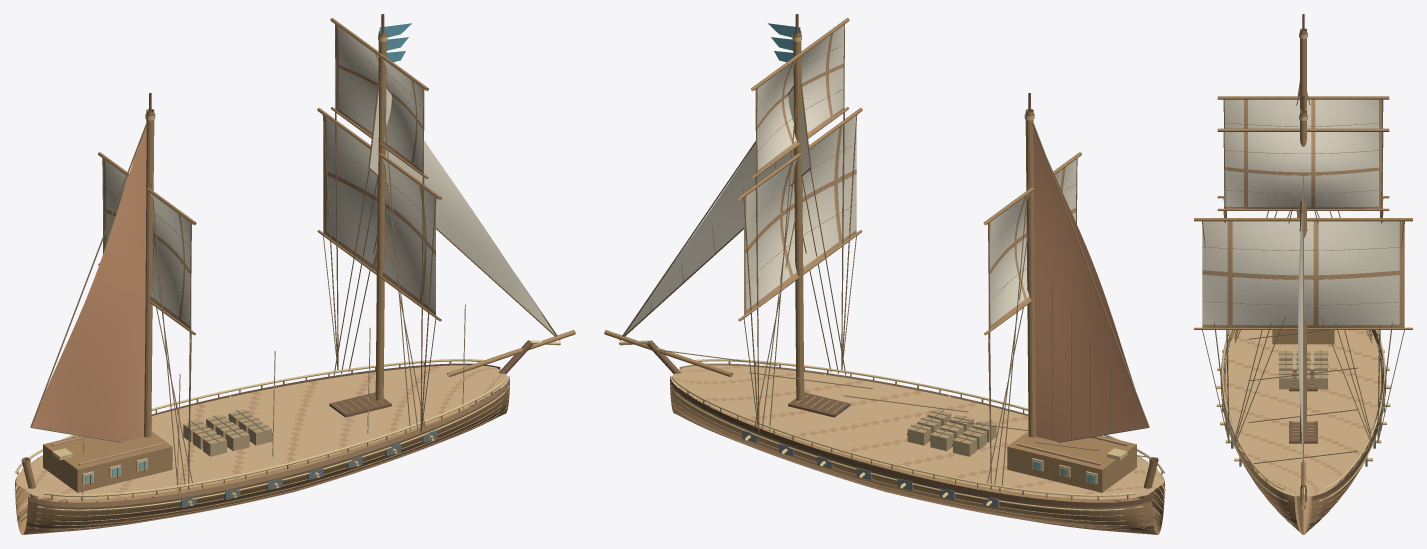
Rendered from atlantic_brigantine-custom.glb.
3 renders of one model, left to right at view 1: azimuth 30°, elevation 25°; view 2: azimuth 150°, elevation 25°; view 3: azimuth 270°, elevation 25°, orthographic. The views are drawn at different scales.
Visible parts, largest first — view 1: atlantic_brigantine; view 2: atlantic_brigantine; view 3: atlantic_brigantine.
Boxes of the visible parts, bbox=[...] form: atlantic_brigantine: bbox=[14, 14, 575, 534]; atlantic_brigantine: bbox=[604, 14, 1165, 534]; atlantic_brigantine: bbox=[1194, 14, 1412, 534].
Bounding box in the file's own units: 52.34 × 39.65 × 19.98.
